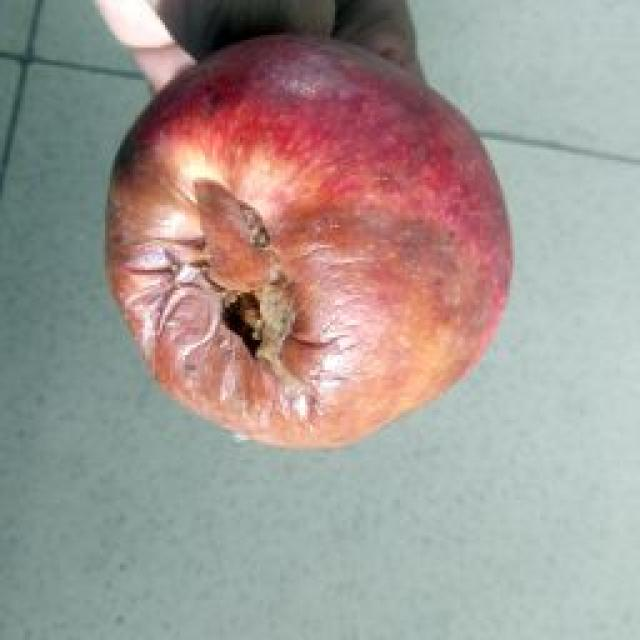Bad_Apple: (108, 38, 509, 447)
